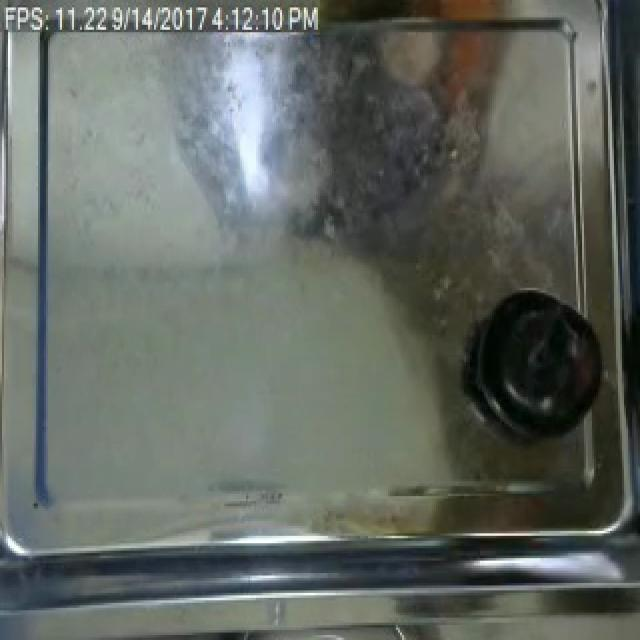Fruit: (474, 285, 590, 422)
